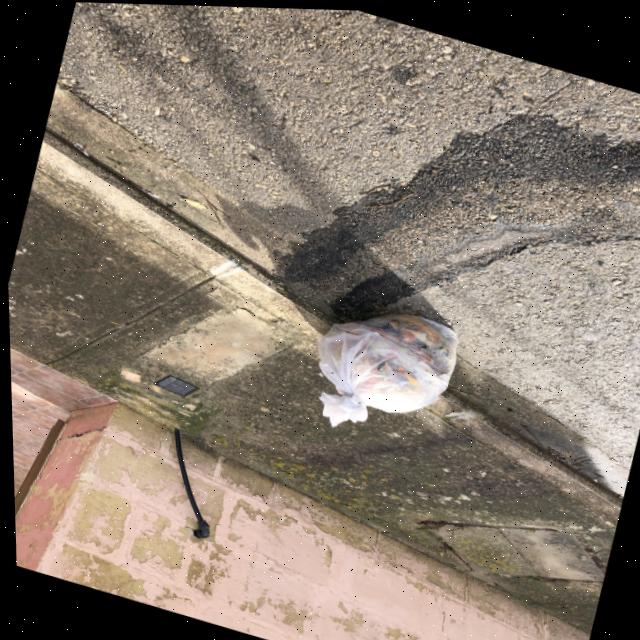Organic Waste -White Bag-: (294, 286, 465, 455)
